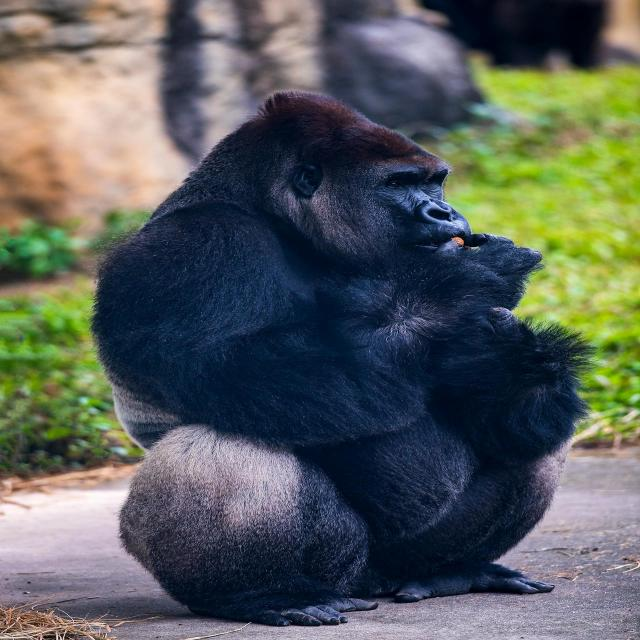Gorilla: (89, 91, 590, 627)
